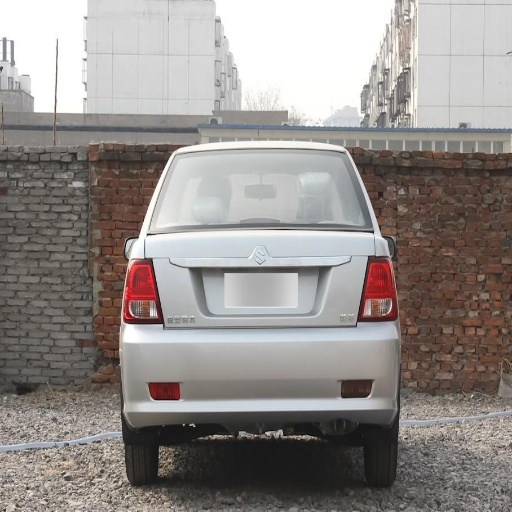back_bumper: (123, 320, 397, 434)
